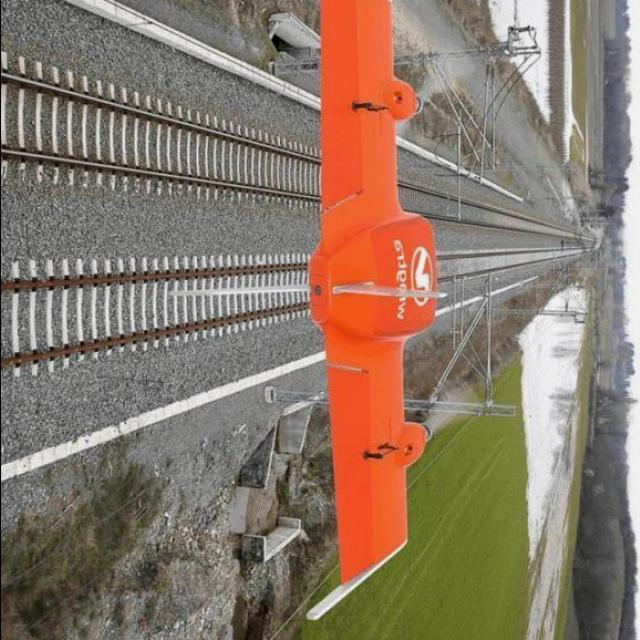plane: (267, 0, 444, 621)
